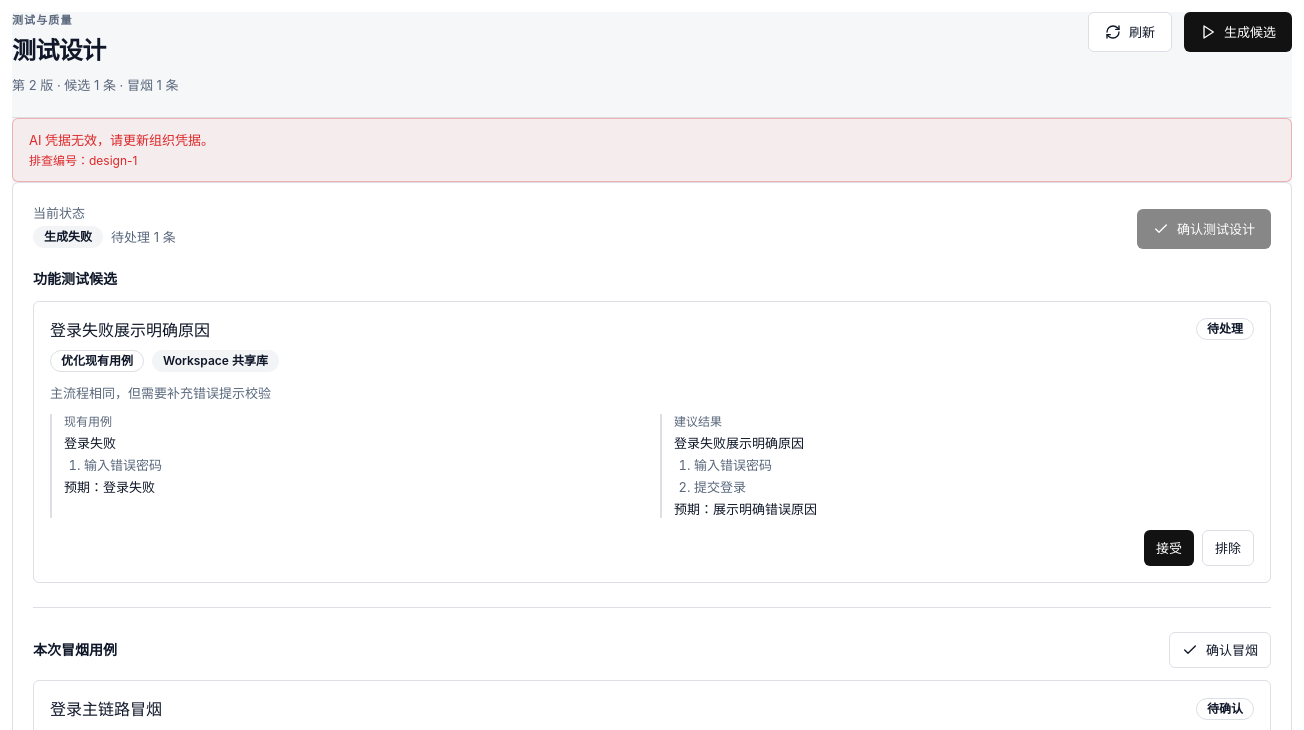
Test case: QualityTestDesignPage › shows the persisted failure reason and clears it when retry starts
Check: the message "AI 凭据无效，请更新组织凭据。 排查编号：design-1" is shown, box [12,118,1292,182]
What coordinates should you click on to do the following:
click the button "生成候选"
I would click on:
 (1238, 32)
Its box is [1184,12,1292,52].
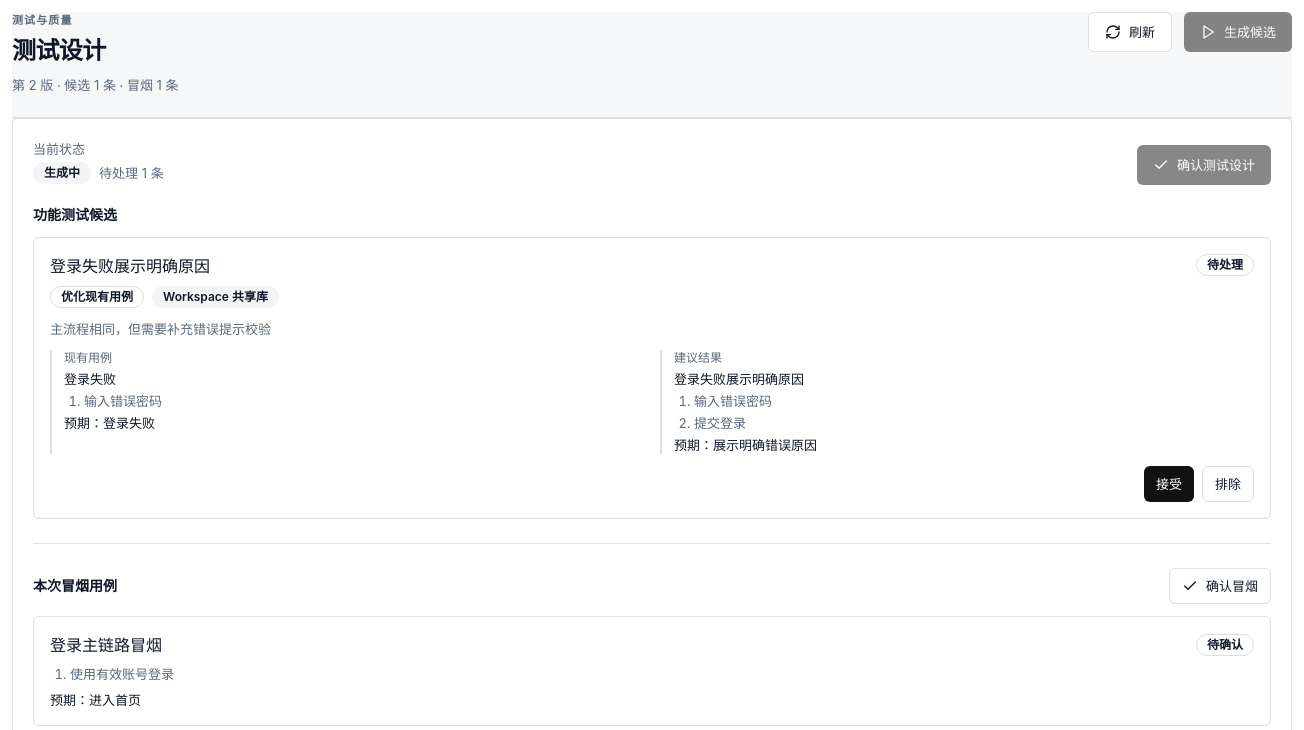
Check: the message "AI 凭据无效，请更新组织凭据。 排查编号：design-1" is gone
